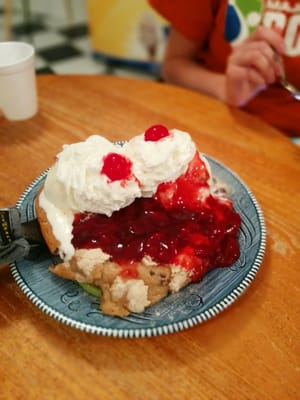burger: (0, 208, 31, 272)
pizza: (0, 41, 39, 122)
